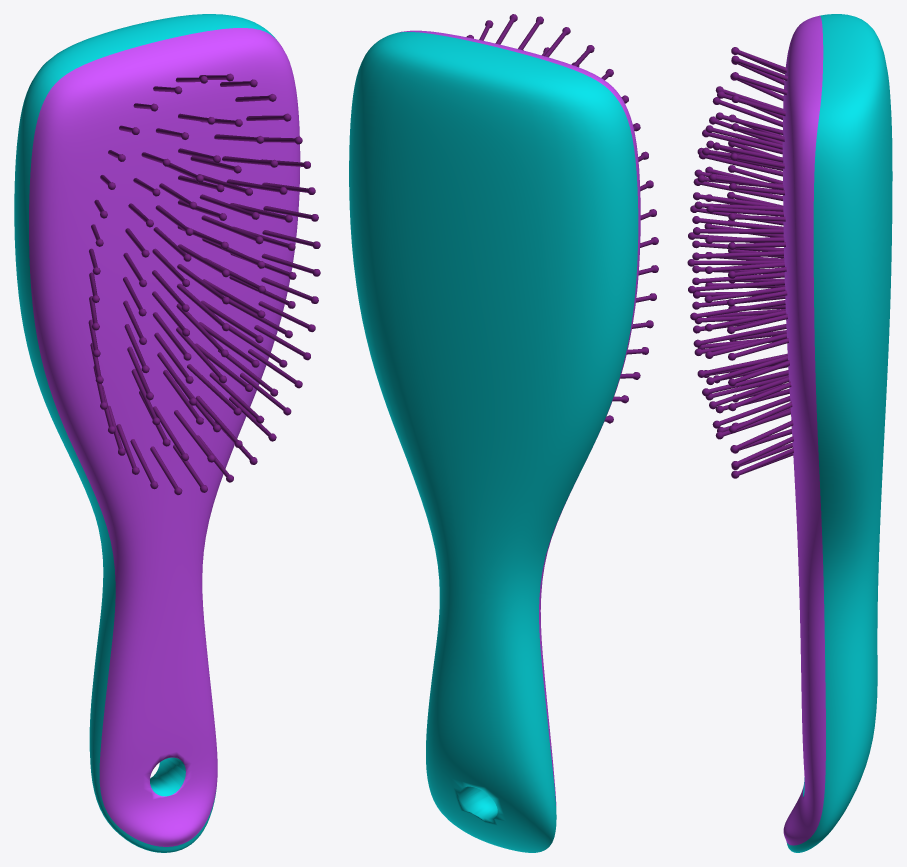
3 views of the same model, side by side, from view 1: azimuth 30°, elevation 25°; view 2: azimuth 150°, elevation 25°; view 3: azimuth 270°, elevation 25° (orthographic). The views are drawn at different scales.
Parts seen in each view (by area): view 1: Cube; view 2: Cube; view 3: Cube.
Boxes of the visible parts, box(x1,y1,x2,y2) form: Cube: box(14, 14, 320, 852); Cube: box(349, 14, 658, 852); Cube: box(687, 14, 892, 852).
Bounding box in the file's own units: 4.8 × 13.52 × 3.16.
